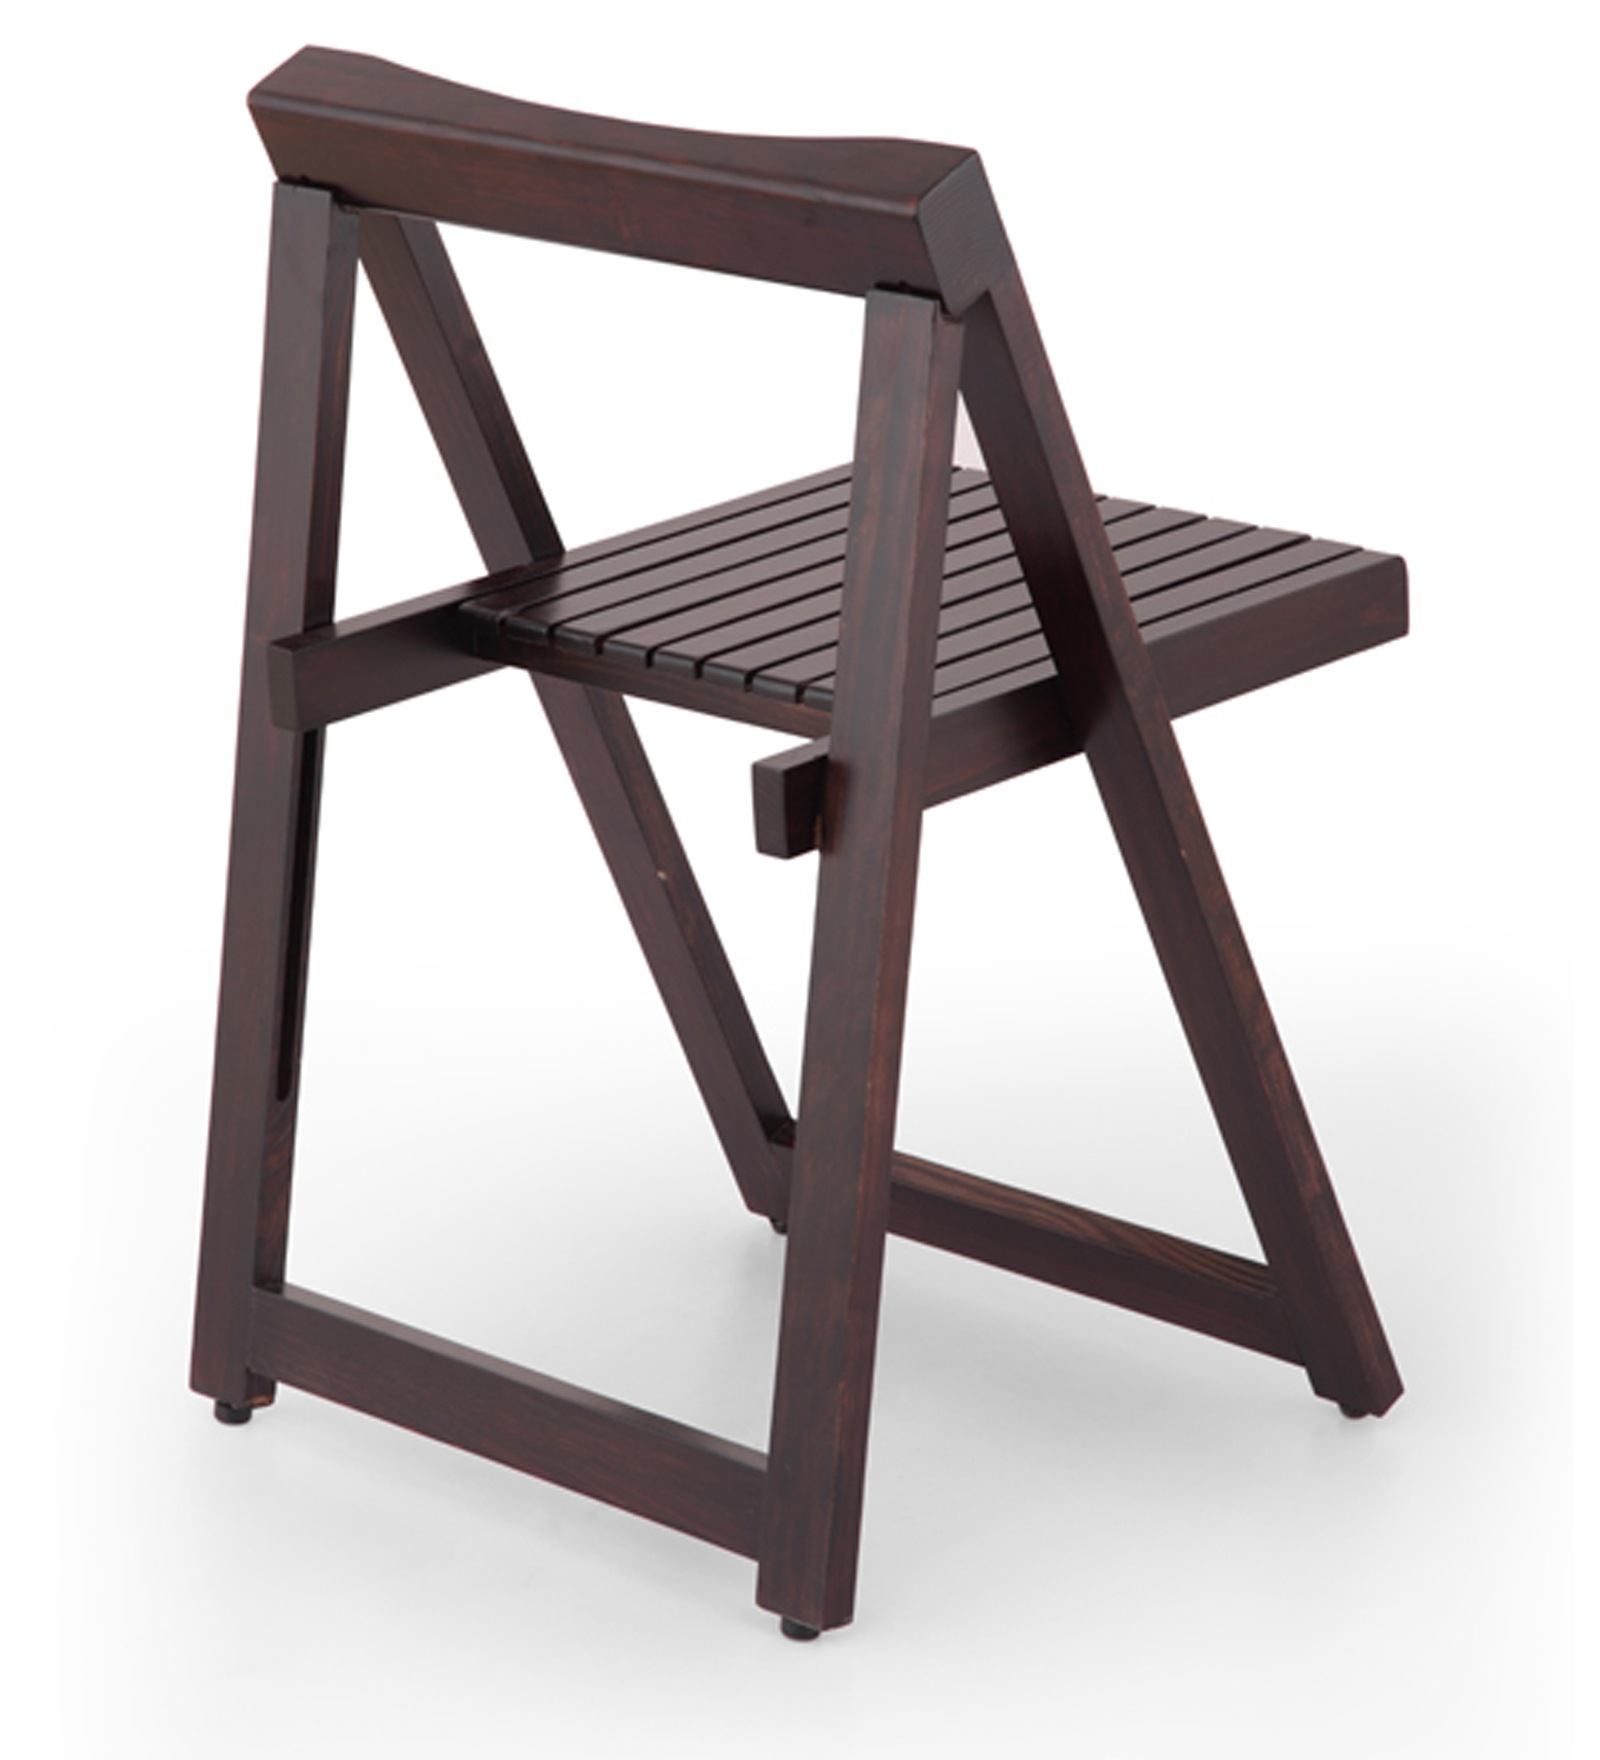Foldable Dining Chair in Ebony Finish by Ekbote Furniture: (116, 28, 1464, 1670)
